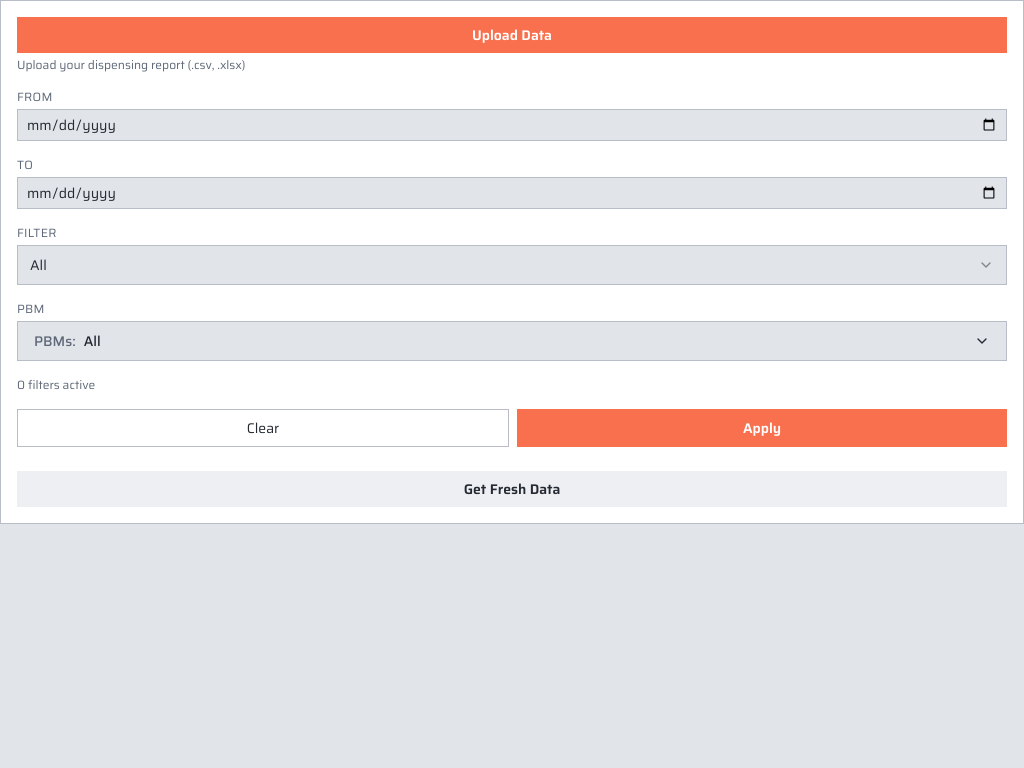
Test: FilterRail upload › Get Fresh Data reports mock refresh THROUGH the service (no real fetch)
Click the button "Get Fresh Data". click: (512,489)
box: [17,471,1007,507]
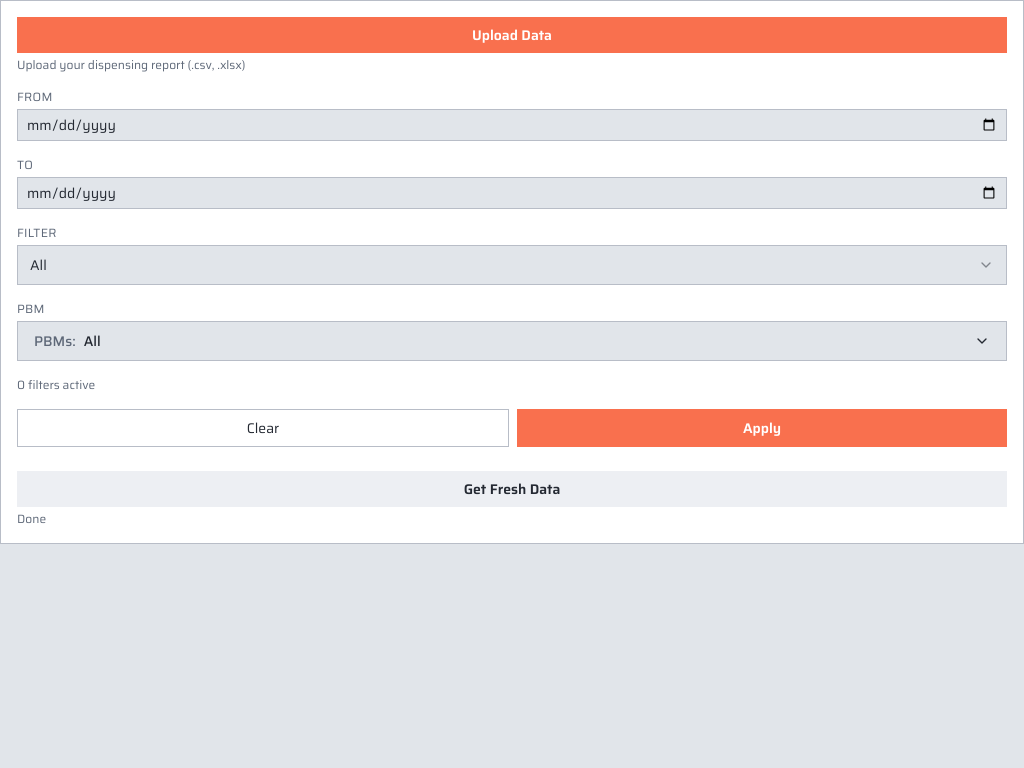
Check: the text "Done" is shown, box [17,509,46,528]
